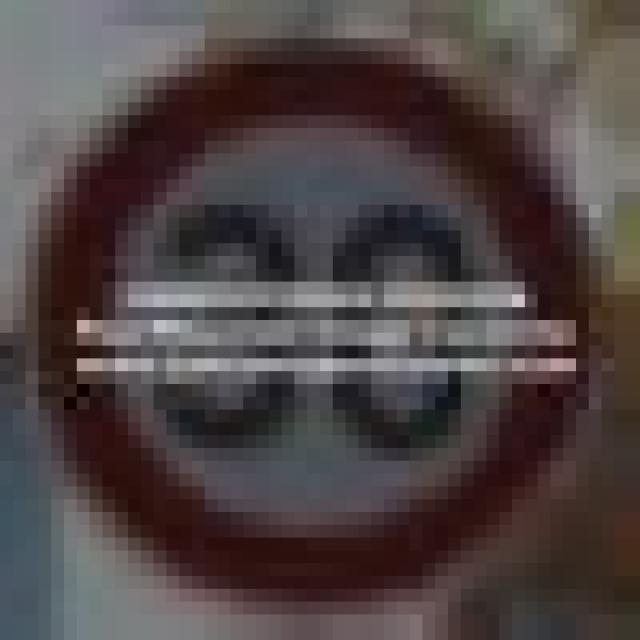SPEED_LIMIT_30: (38, 26, 589, 602)
